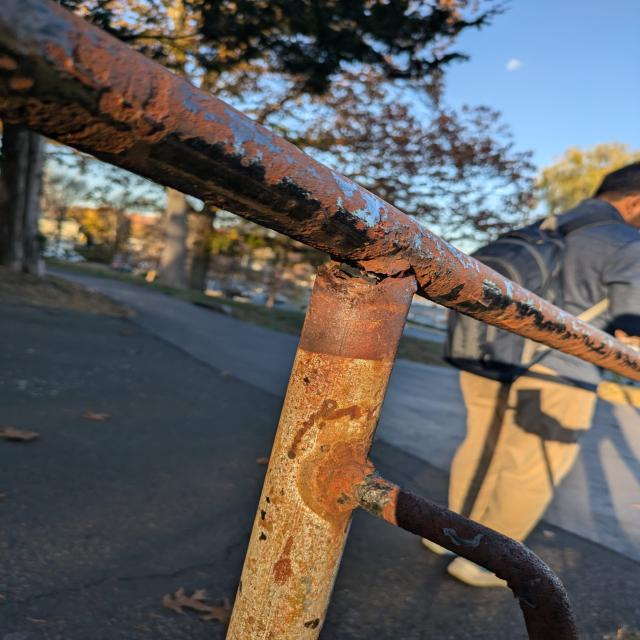Crevice Corrosion: (354, 468, 400, 524)
Uniform Corrosion: (1, 1, 640, 380), (227, 266, 420, 640), (391, 487, 579, 640)
